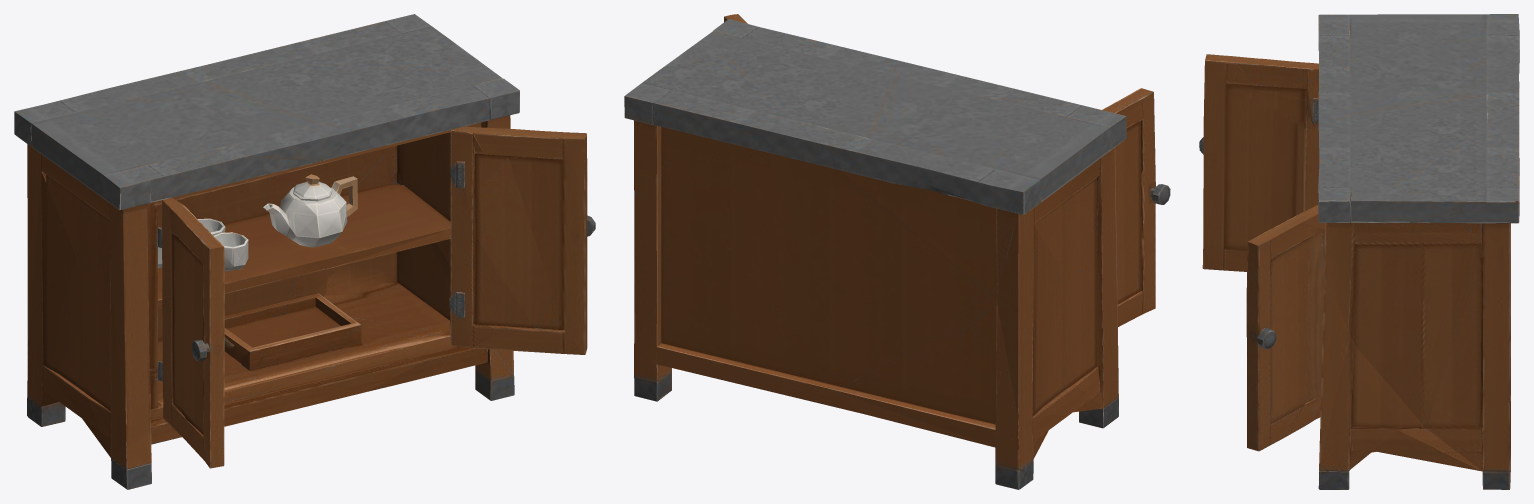
Rendered from teaSideboard.glb.
The picture shows the model from 3 angles, left to right: view 1: azimuth 30°, elevation 25°; view 2: azimuth 150°, elevation 25°; view 3: azimuth 270°, elevation 25°; orthographic projection. The views are drawn at different scales.
Visible parts, largest first — view 1: Mesh_0; view 2: Mesh_0; view 3: Mesh_0.
Boxes of the visible parts, bbox=[...] form: Mesh_0: bbox=[14, 14, 595, 489]; Mesh_0: bbox=[624, 14, 1170, 489]; Mesh_0: bbox=[1199, 14, 1519, 489].
Size of the model in its own units: 0.7718 by 0.5019 by 0.5.
1 material, 1 textured.
